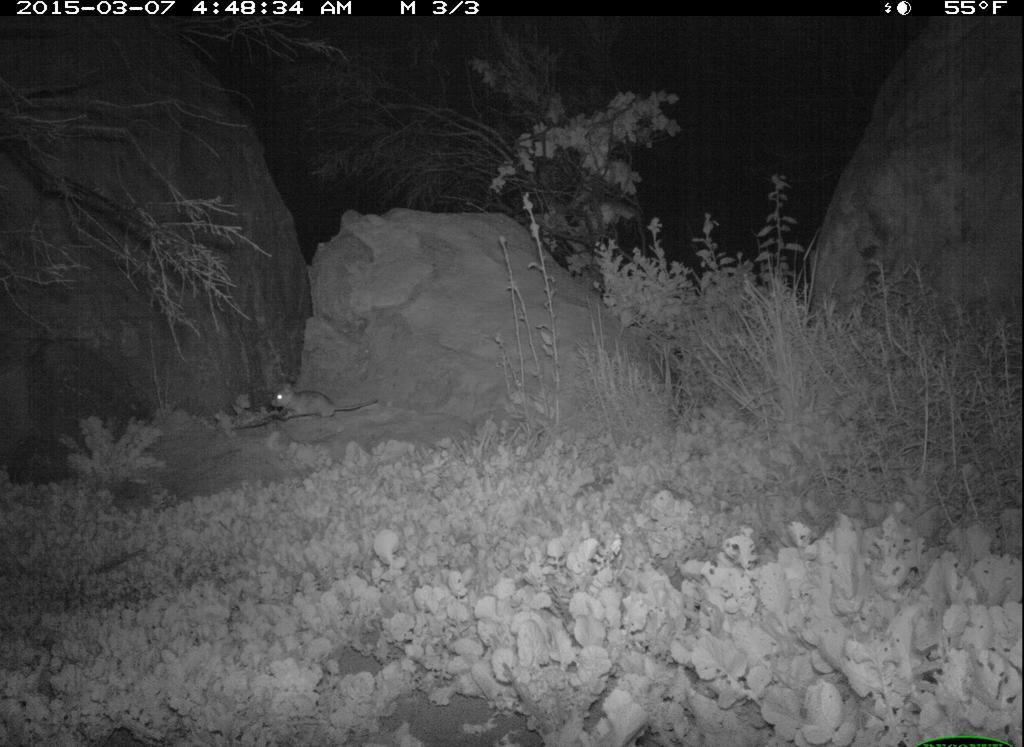rodent: (268, 376, 381, 428)
